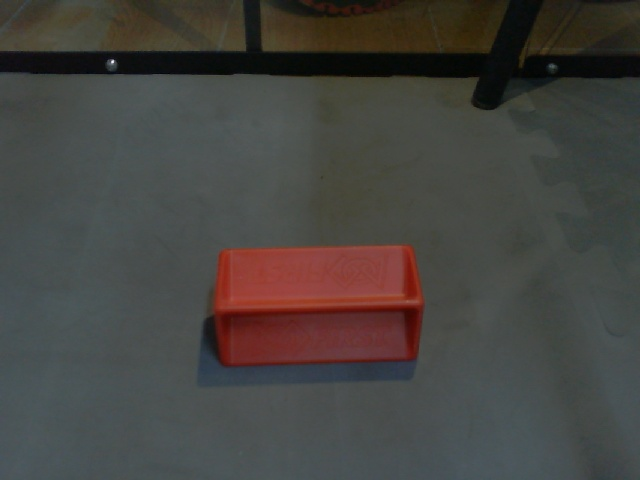RedSample: (212, 243, 424, 369)
